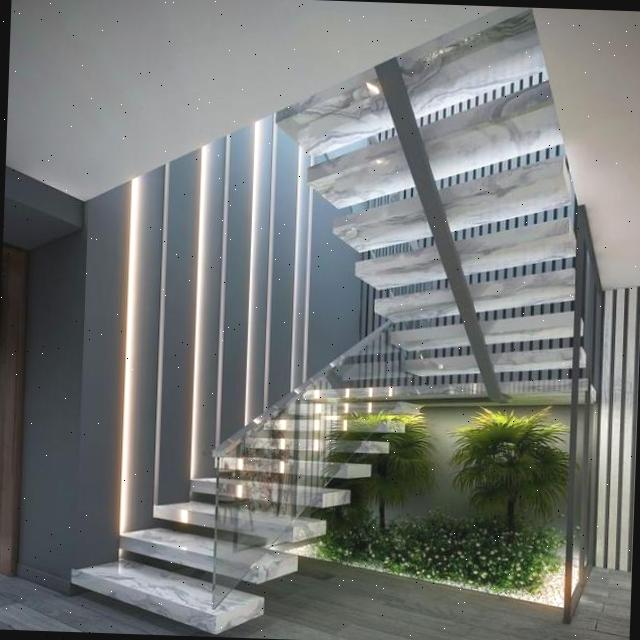stairs: (66, 50, 609, 640)
